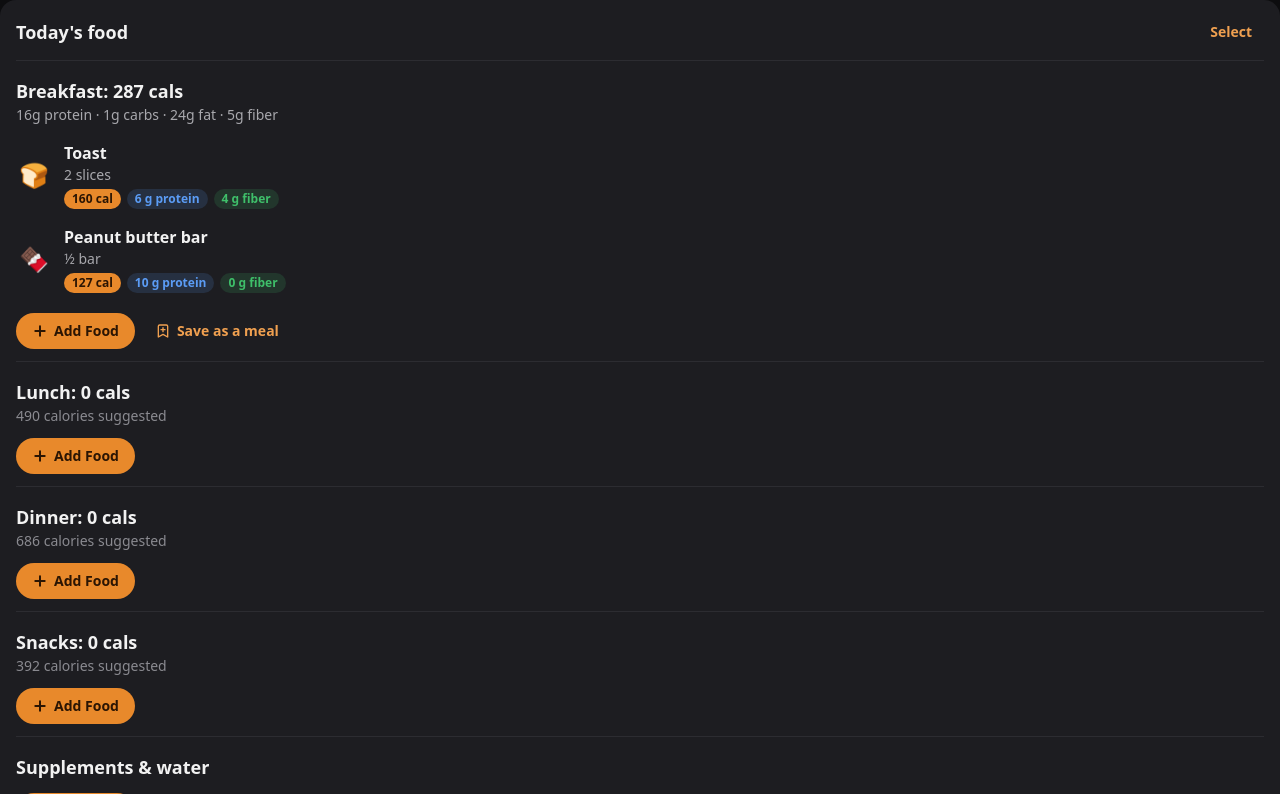
Scenario: Food widget (everything the Log page did) › delete asks first and removes the row
Click the button "🍞 Toast 2 slices 160 cal 6 g protein 4 g fiber" at (85, 153), box left=8, top=133, right=1272, bottom=217
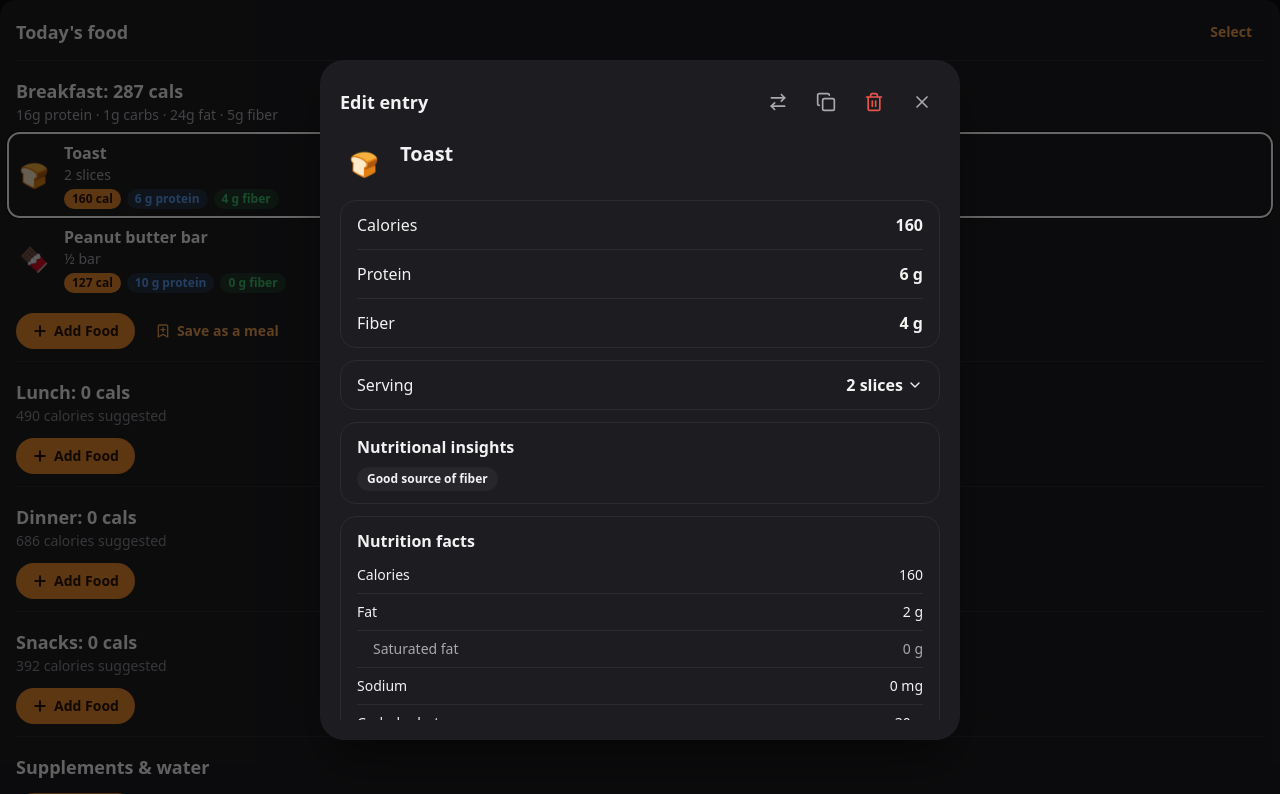
Click the button named "Delete" at (874, 102), box left=852, top=80, right=896, bottom=124
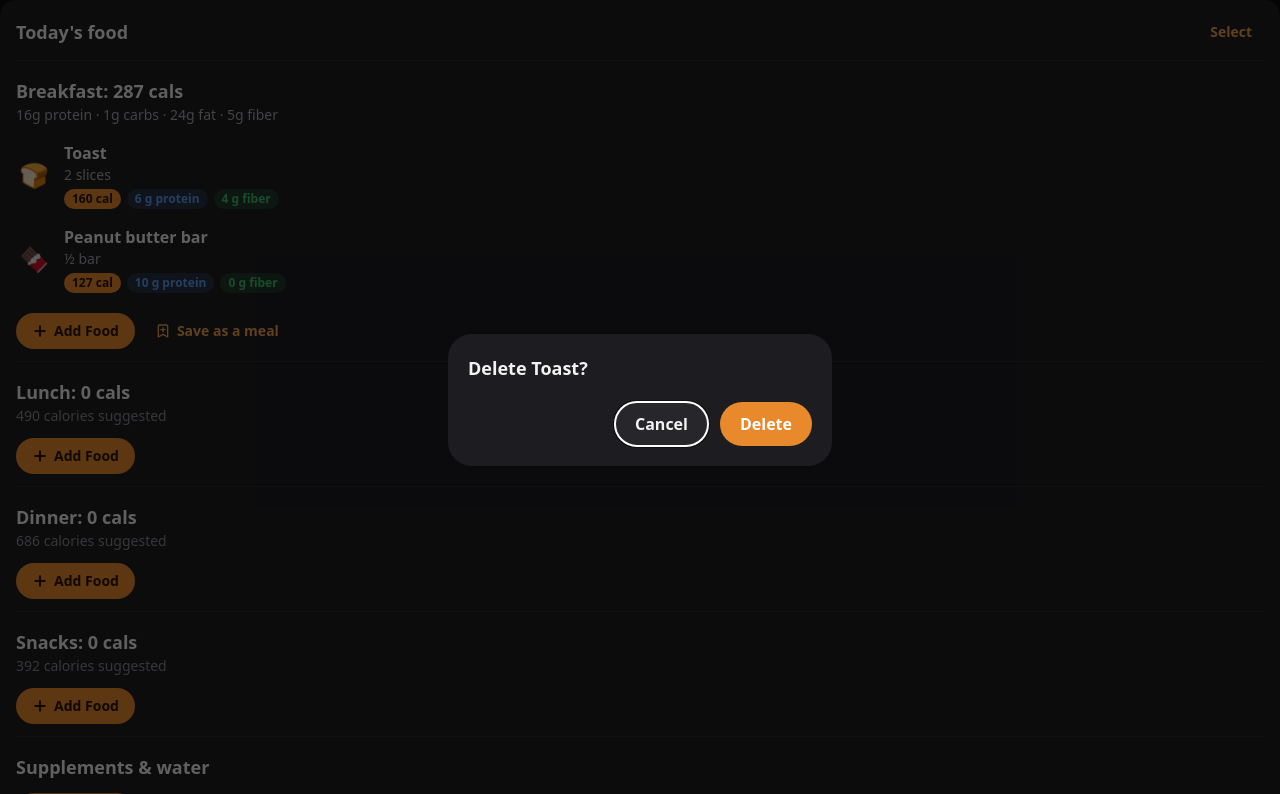
Click the button "Delete" at (766, 424), box left=720, top=402, right=812, bottom=446
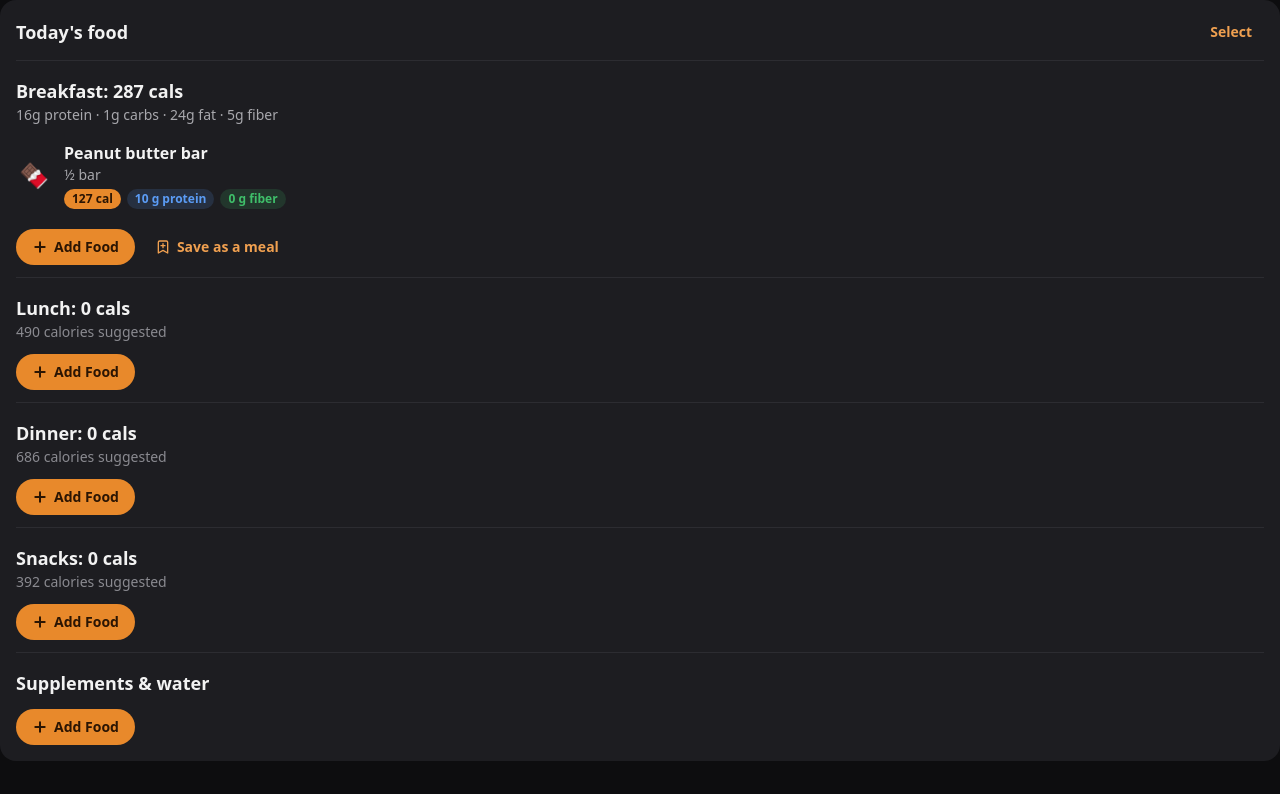
Expected: the button "🍫 Peanut butter bar ½ bar 127 cal 10 g protein 0 g fiber" is shown, left=8, top=133, right=1272, bottom=217
Expected: the button "Toast" is gone
